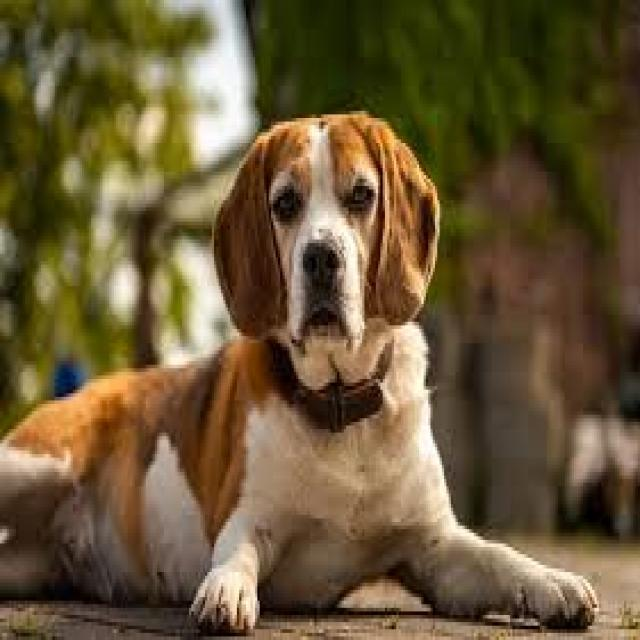Dog: (0, 105, 603, 640)
